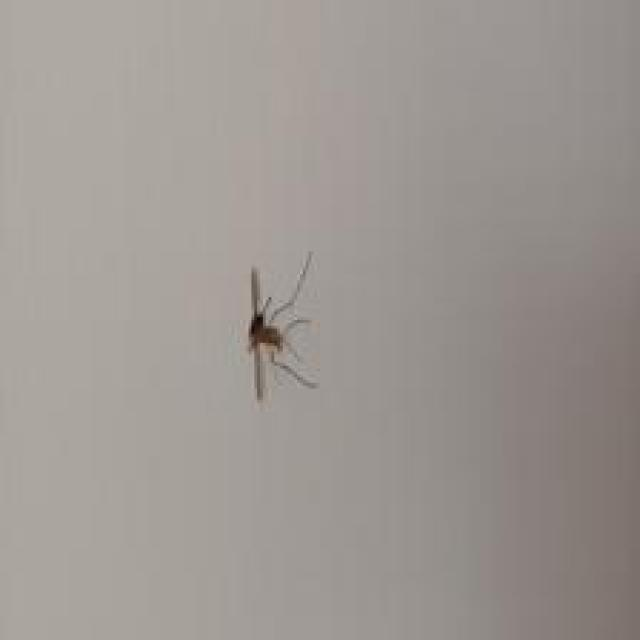Culex: (243, 250, 320, 401)
